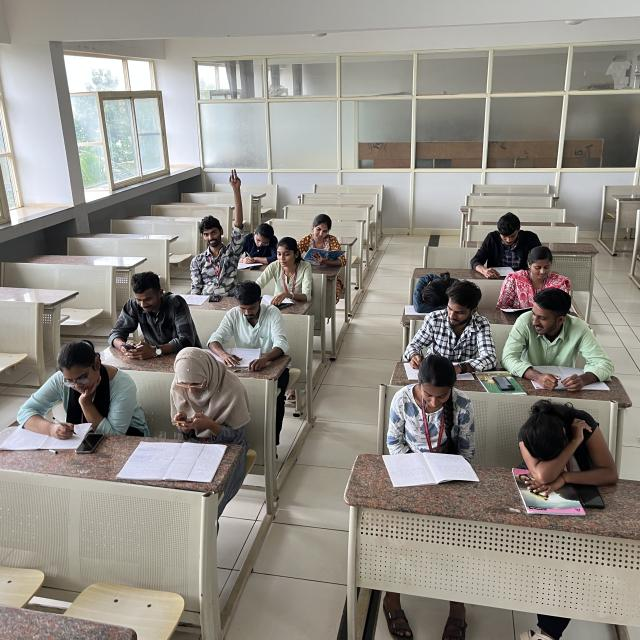Hand Rising: (150, 163, 248, 284)
Reading: (384, 364, 480, 506), (456, 200, 572, 276), (209, 287, 303, 368), (496, 246, 596, 322), (250, 237, 323, 308), (294, 210, 360, 271)
Sleeping: (514, 406, 622, 482), (402, 263, 488, 313)
Using Phone: (146, 351, 259, 445), (93, 268, 198, 358)
Writing: (0, 348, 143, 466), (394, 293, 493, 381), (232, 205, 287, 271)
